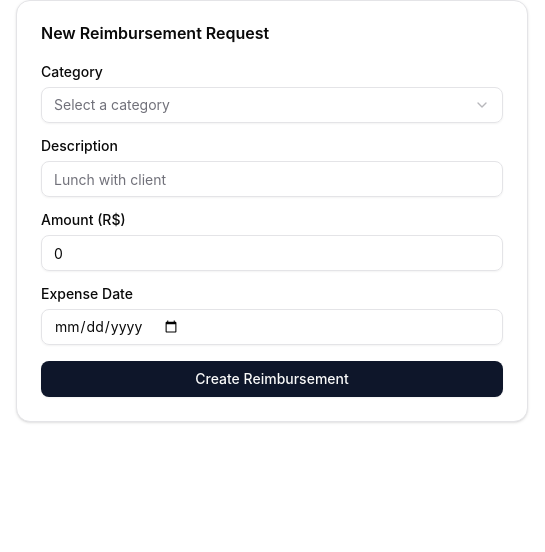
ReimbursementForm › deve mostrar erros de validação com campos vazios
Click the button "Create Reimbursement": (272, 379) top-left (41, 361), bottom-right (503, 397)
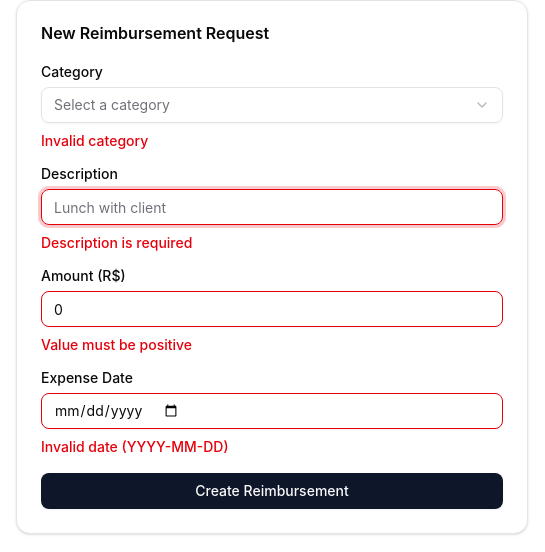
Expected: the text "Invalid category" is shown, top-left (41, 132), bottom-right (148, 149)
Expected: the text "Description is required" is shown, top-left (41, 234), bottom-right (192, 251)
